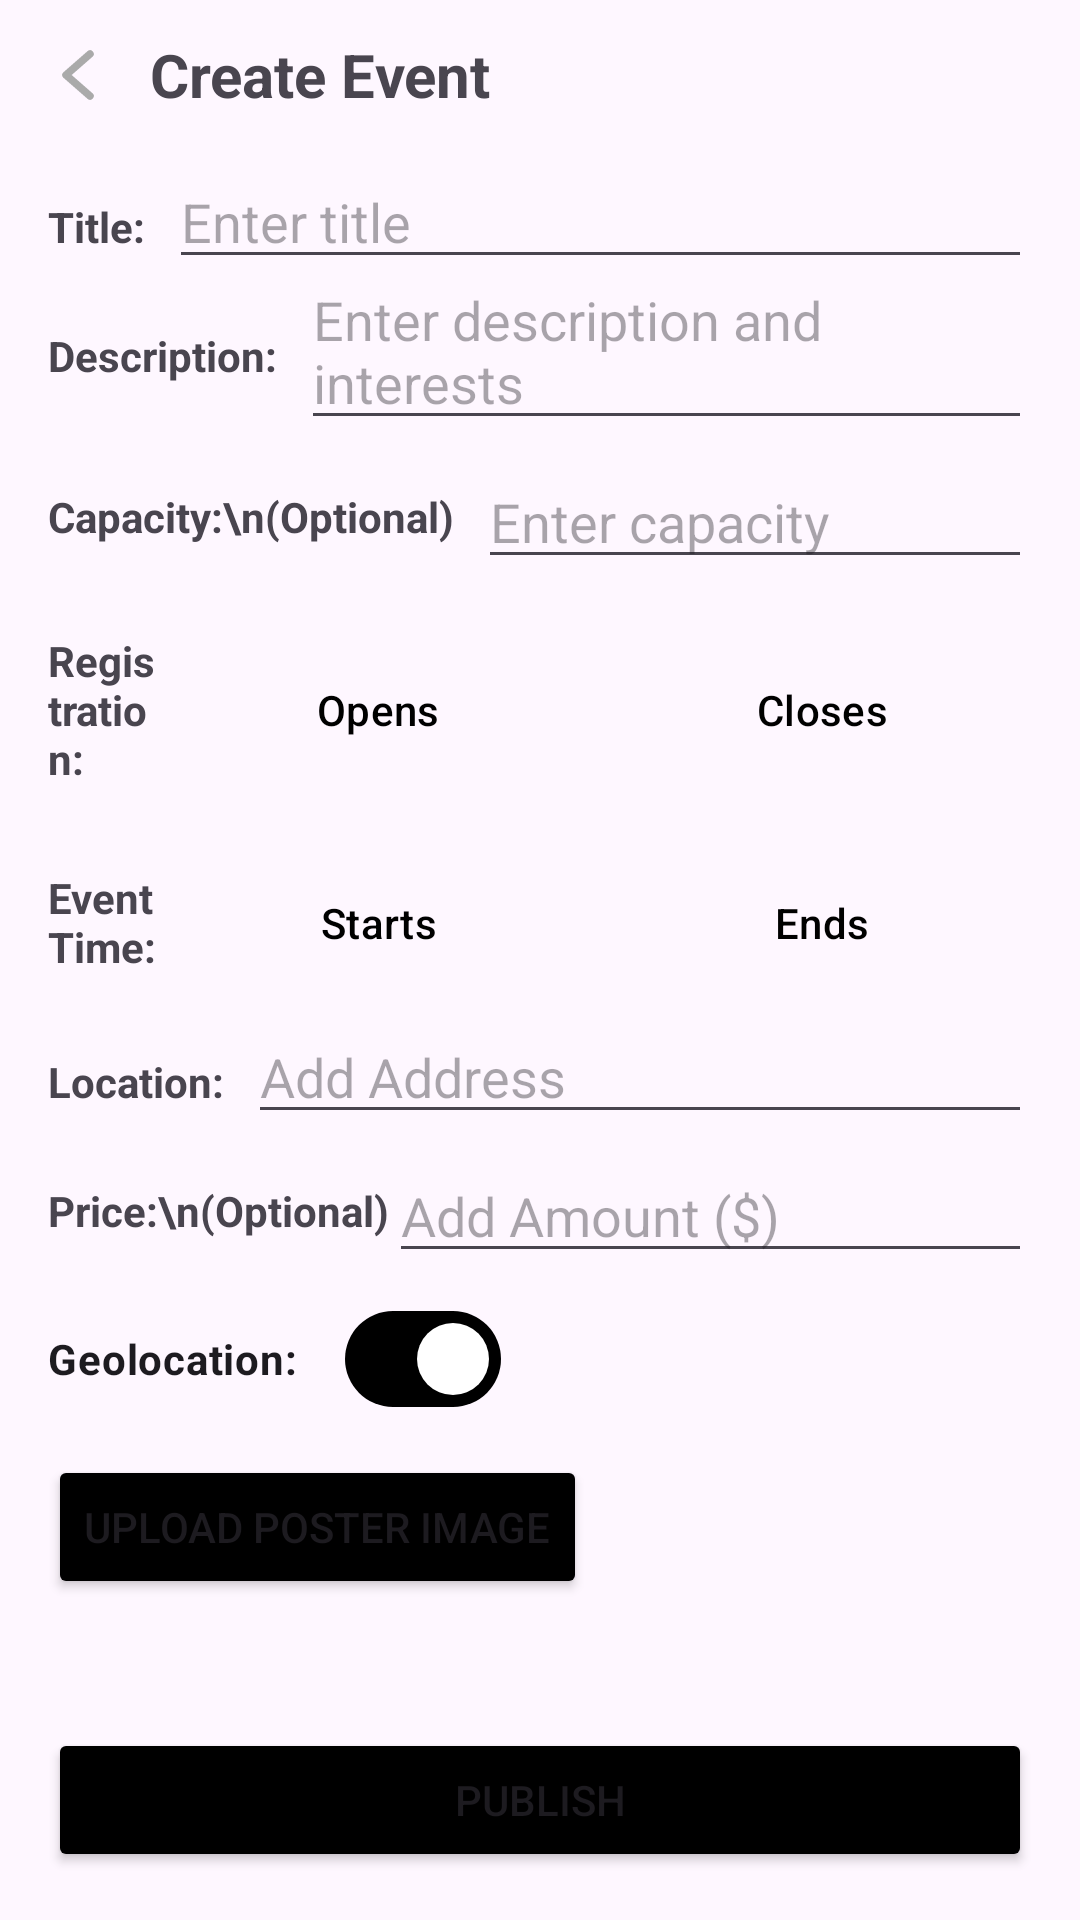

Locate icon controls on the screen. Image size 1080w x 1920h, boxes as (x1=x1, y1=y1, x2=x2, y2=y2).
back arrow: (x1=62, y1=50, x2=94, y2=100)
